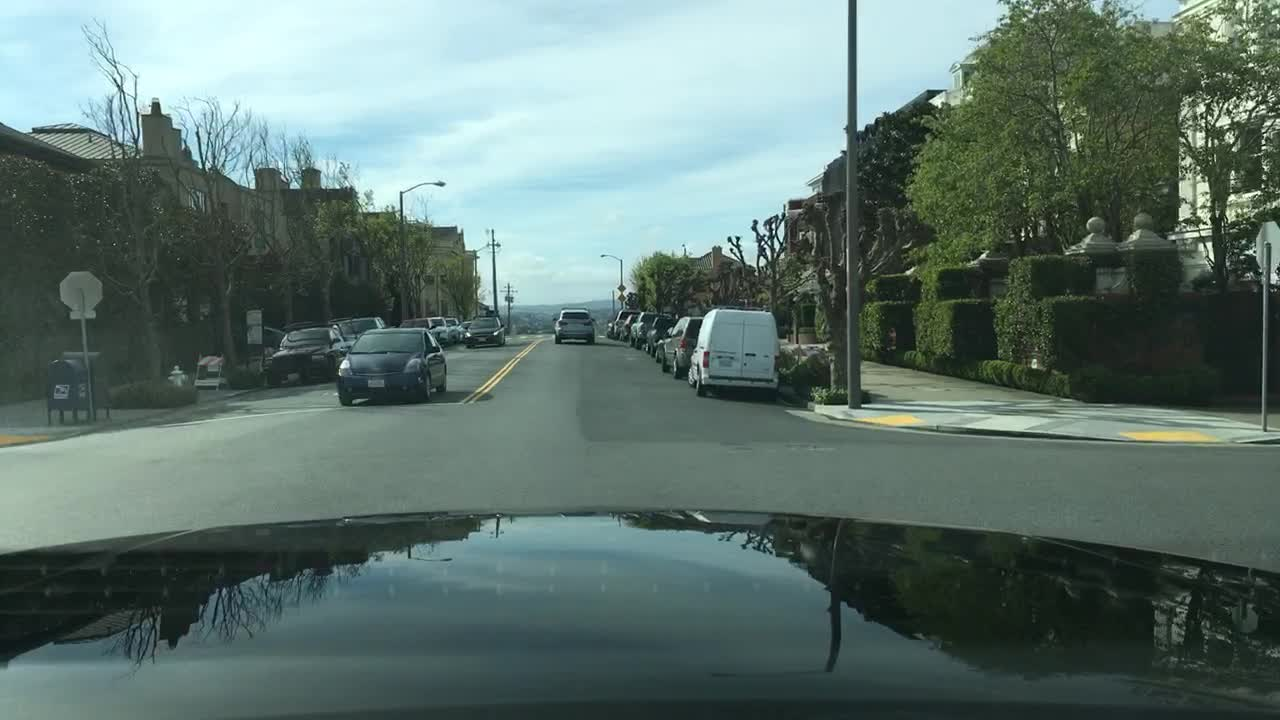car: (334, 329, 447, 402), (688, 308, 779, 397), (263, 323, 349, 387), (328, 317, 385, 375), (656, 315, 706, 373), (399, 318, 445, 354), (553, 308, 595, 344), (463, 315, 505, 345), (640, 312, 671, 351), (611, 308, 640, 336), (616, 314, 640, 344), (444, 317, 460, 347), (430, 317, 444, 348), (607, 308, 617, 338), (460, 320, 471, 339)
traffic sign: (57, 270, 102, 317), (1256, 216, 1278, 283), (617, 293, 628, 305), (617, 282, 625, 294)
